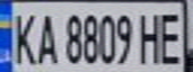0: (100, 9, 118, 65)
8: (60, 9, 84, 65), (78, 9, 100, 65)
9: (115, 9, 139, 65)
A: (33, 8, 60, 65)
E: (154, 7, 187, 65)
H: (136, 8, 166, 65)
K: (6, 8, 39, 66)
